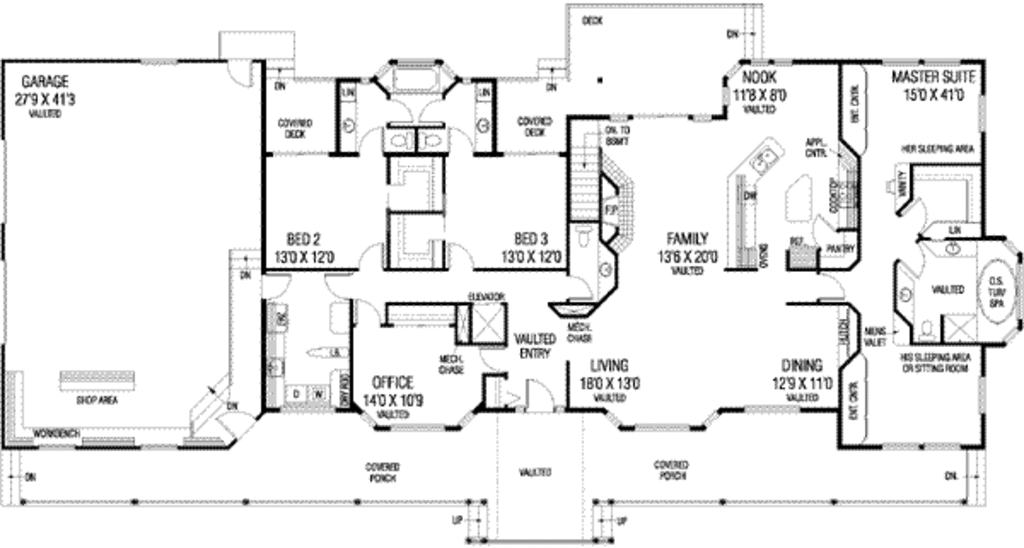door: (221, 54, 257, 91), (893, 245, 927, 279), (215, 409, 254, 438), (524, 377, 557, 410), (259, 268, 291, 300), (901, 195, 931, 229), (448, 237, 479, 269), (821, 273, 850, 301), (445, 122, 472, 152), (355, 297, 383, 325), (387, 93, 413, 123), (480, 343, 510, 369), (567, 272, 594, 300), (812, 211, 839, 239), (324, 275, 353, 301), (358, 125, 385, 150), (417, 97, 438, 128), (361, 242, 387, 266)
large_sink: (570, 224, 599, 258), (387, 125, 416, 154), (418, 128, 442, 154), (916, 314, 938, 341)
small_sink: (939, 241, 972, 260), (338, 108, 357, 139), (267, 357, 291, 379), (594, 259, 616, 280), (892, 286, 916, 305)
stairs: (566, 113, 603, 219)
tub: (385, 61, 447, 89)
twin_sink: (740, 134, 796, 173)
window: (879, 56, 965, 69), (1, 138, 10, 220), (630, 422, 694, 432)
